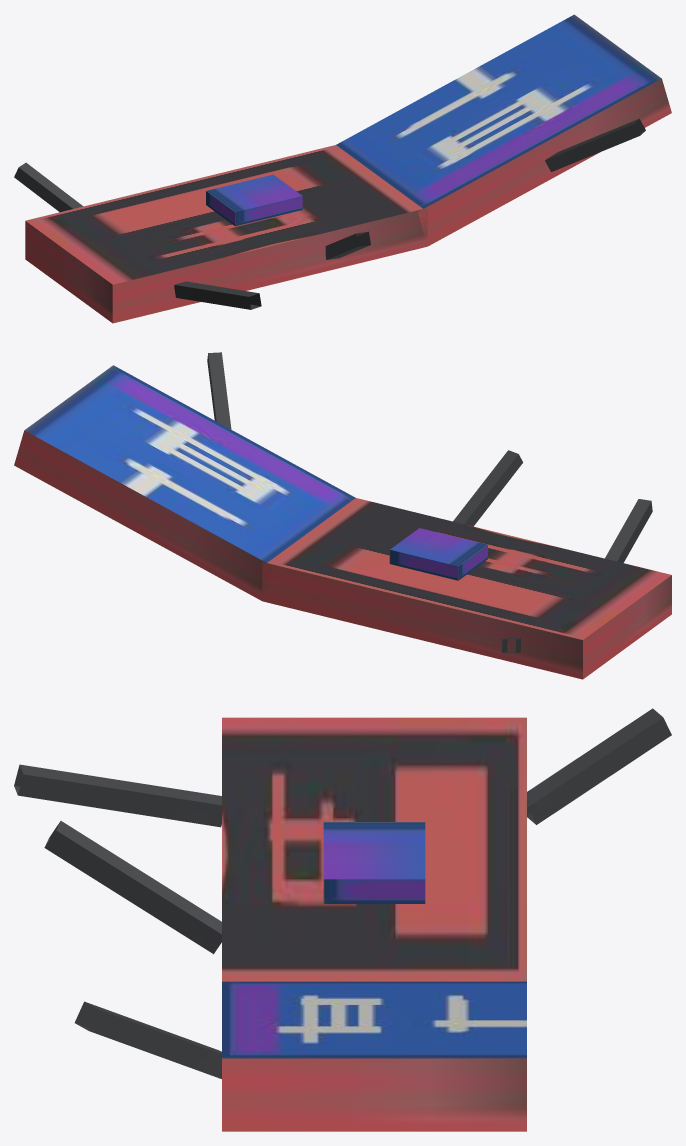
The model's file is debris_tokyo_sign_board.glb.
3 views of the same model, one above another, from view 1: azimuth 30°, elevation 25°; view 2: azimuth 150°, elevation 25°; view 3: azimuth 270°, elevation 25° (orthographic). The views are drawn at different scales.
Parts seen in each view (by area): view 1: debris_tokyo_sign_board; view 2: debris_tokyo_sign_board; view 3: debris_tokyo_sign_board.
Part boxes in pixels (box(x1,y1,x2,y2)): debris_tokyo_sign_board: box(14, 14, 671, 323); debris_tokyo_sign_board: box(14, 352, 671, 679); debris_tokyo_sign_board: box(14, 708, 671, 1131).
Size of the model in its own units: 3.32 by 0.6298 by 1.94.
1 material, 1 textured.
